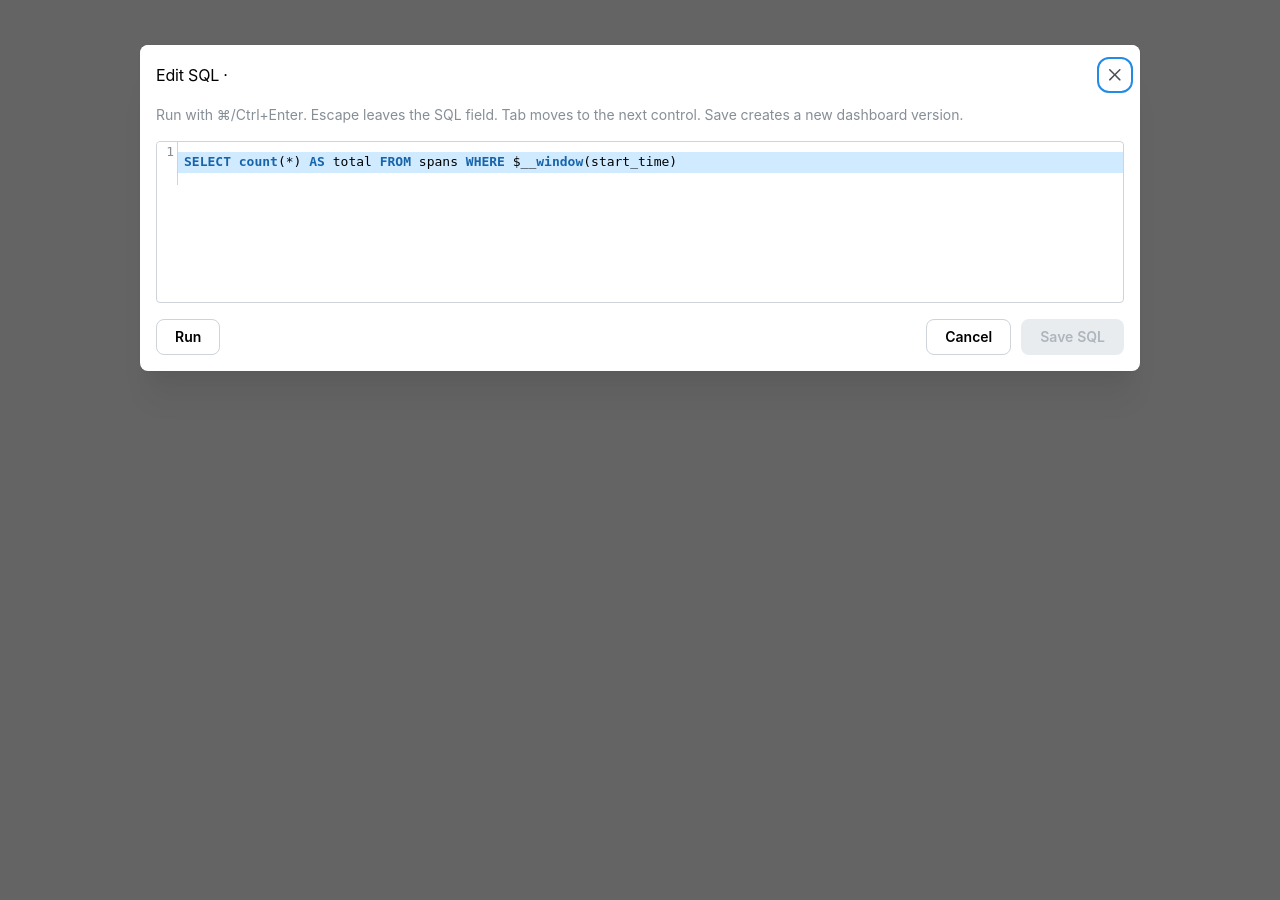
Test: shows server problems inline for this panel and clears them when editing
Click the button "Run" at (188, 337), box [156,319,220,355]
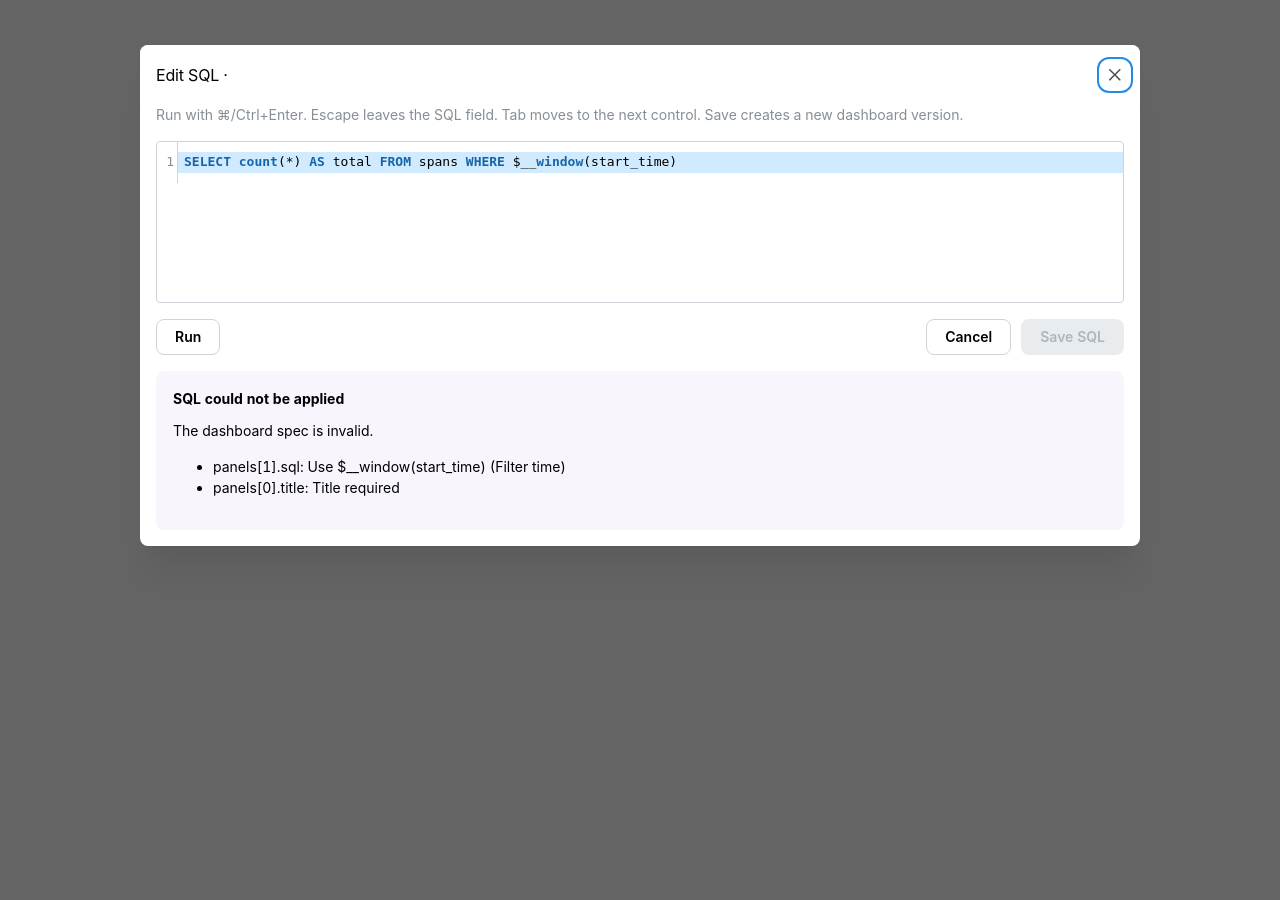
Expected: the message shows "Title required", [312,479,400,496]
